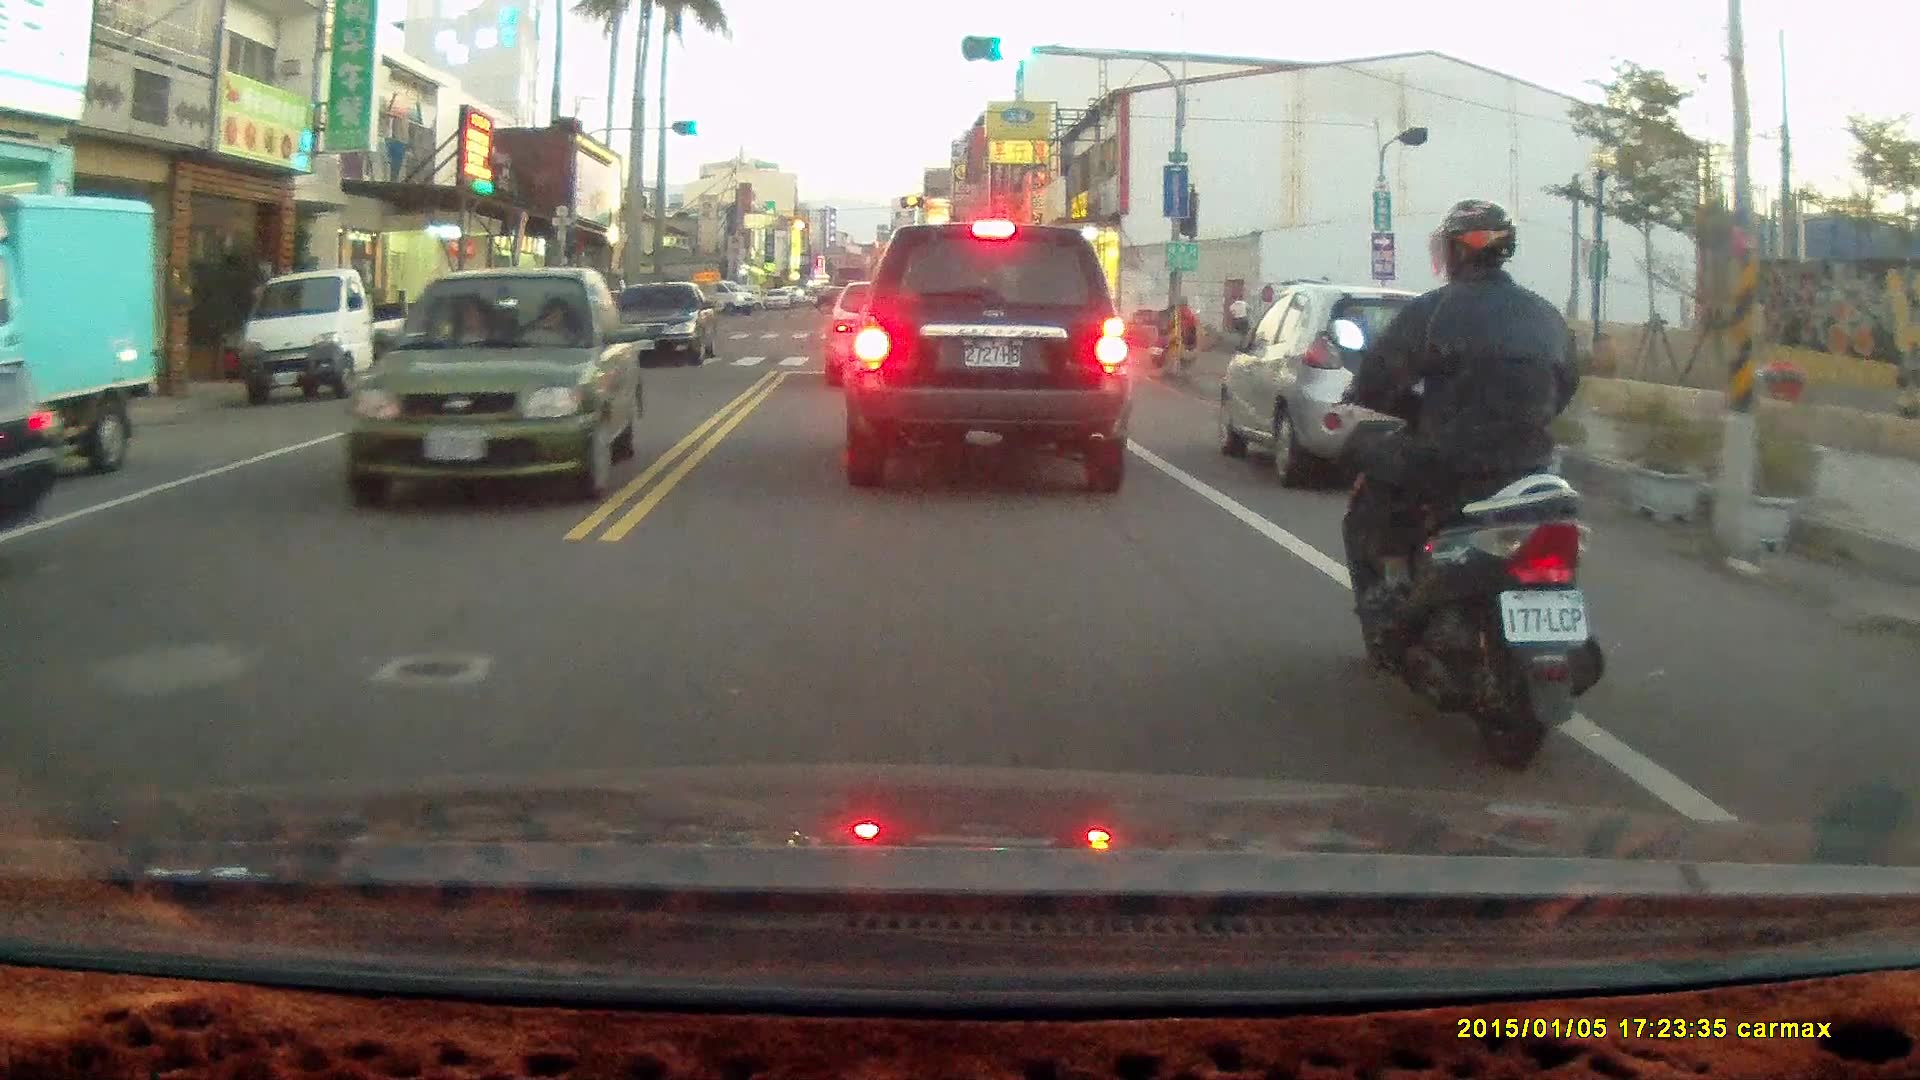pedestrian: (1225, 290, 1252, 360)
rider: (1332, 197, 1613, 778), (1149, 292, 1199, 371)
vehicle: (843, 223, 1137, 496), (335, 266, 638, 507), (1217, 283, 1517, 502), (1, 192, 162, 484), (239, 268, 418, 400), (602, 282, 722, 372), (1, 382, 70, 537)
